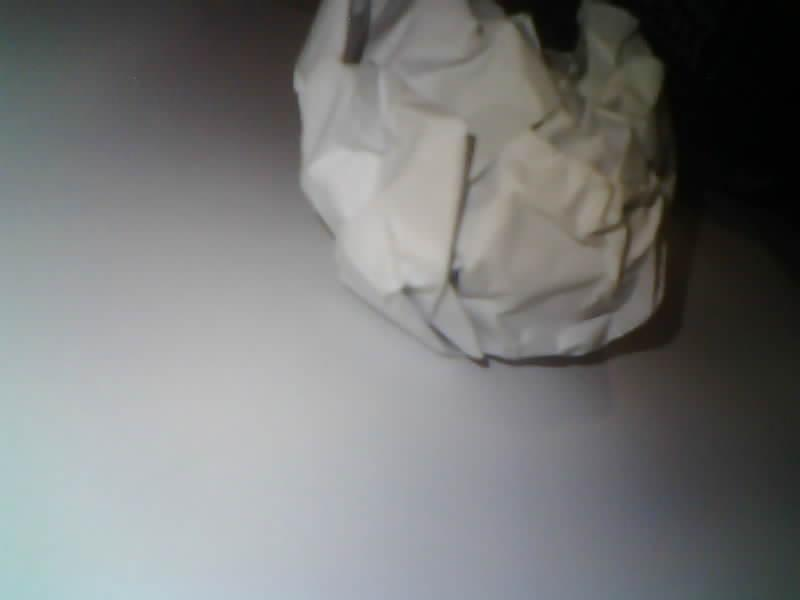biodegradable: (294, 0, 675, 359)
